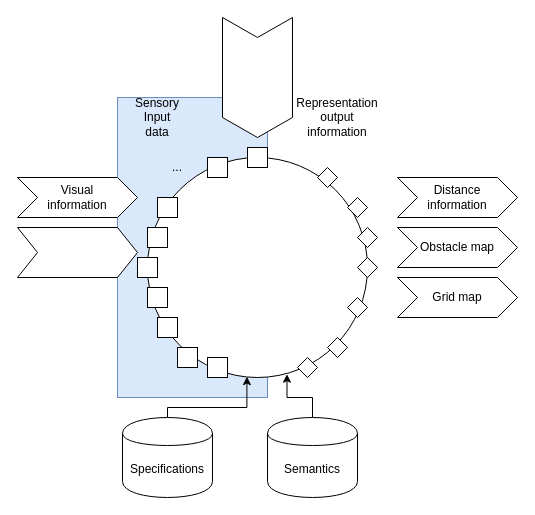
The diagram is 535 pixels wide and 515 high, and some of its shapes have lost their labels. The shapes that lost their labels are listed below. From the top down, each one's box as (x1, y1, x2, y2) in pixels, then its label:
(222, 16, 292, 138): State information
(16, 226, 138, 278): Sensory spatial information (Point cloud)
(146, 156, 368, 378): ReiEnviornmentNode
